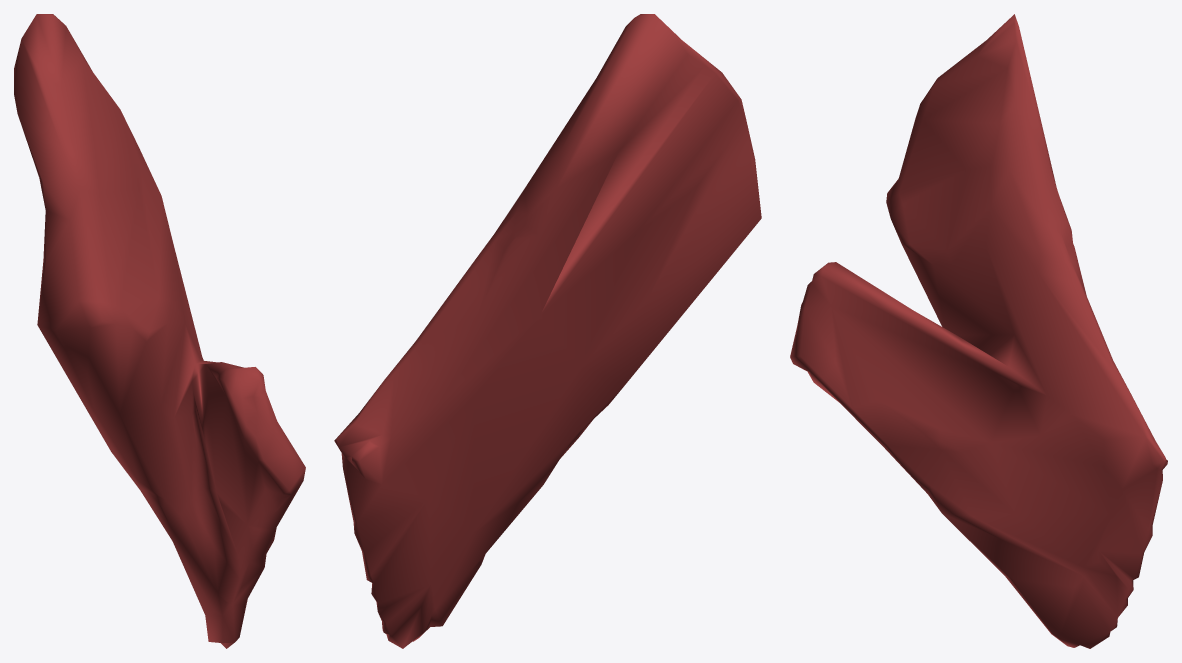
File: medial-pterygoid-muscle-l.glb
3 views of the same model, side by side, from view 1: azimuth 30°, elevation 25°; view 2: azimuth 150°, elevation 25°; view 3: azimuth 270°, elevation 25° (orthographic). The views are drawn at different scales.
Visible parts, largest first — view 1: Medial pterygoid muscle.l; view 2: Medial pterygoid muscle.l; view 3: Medial pterygoid muscle.l.
Boxes of the visible parts, x1=… form: Medial pterygoid muscle.l: x1=14, y1=14, x2=305, y2=648; Medial pterygoid muscle.l: x1=334, y1=14, x2=761, y2=648; Medial pterygoid muscle.l: x1=790, y1=14, x2=1167, y2=648.
Bounding box in the file's own units: 0.0225 × 0.0492 × 0.0307.
